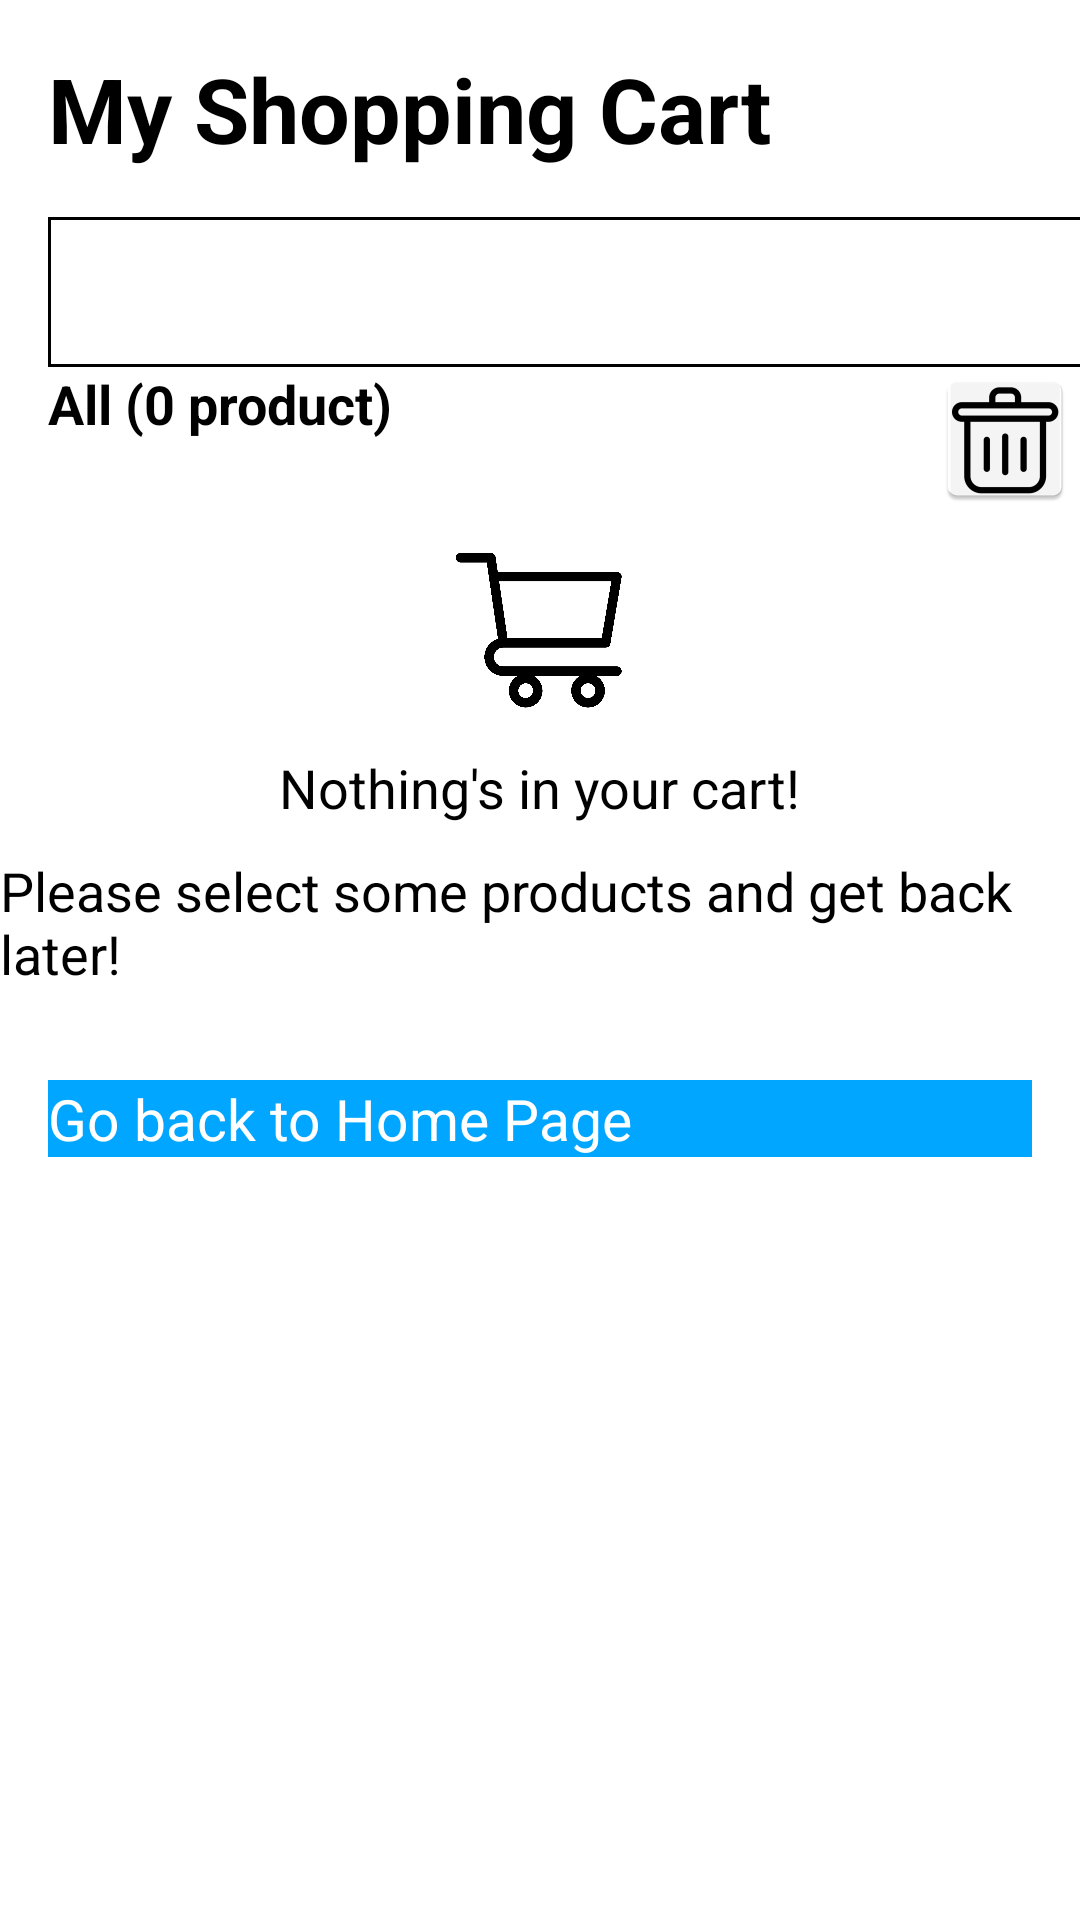

Screen size 1080*1920. Icon name, then its box in pixels as (x1, y1, x2, y2):
cart is empty: (456, 553, 622, 708)
Xóa khỏi giỏ hàng: (947, 382, 1063, 501)
